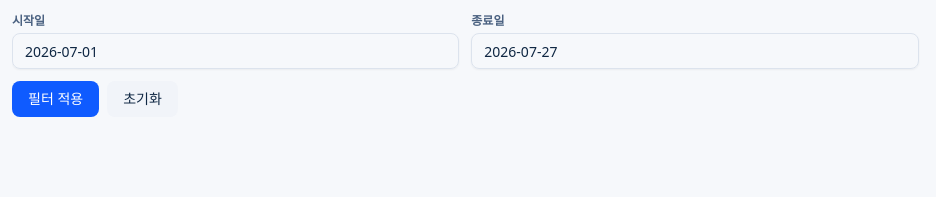
Test: FilterBar / useFilterDraft › wires aria-describedby to the id of the actually-rendered error element (not just a matching string)
The image size is (936, 197).
Clear the field labelled "시작일" at (236, 51), box [12,33,459,69]
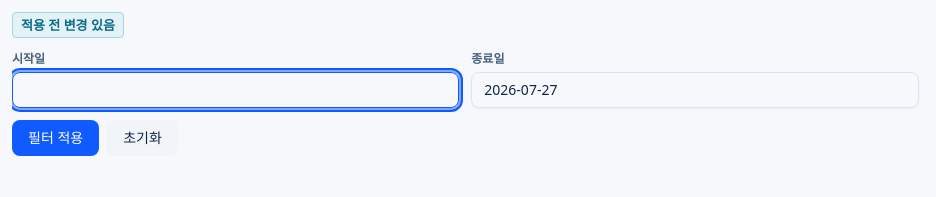
Type "2026-07-30" into the field labelled "시작일".
click(236, 90); type("2026-07-30")  # box [12,72,459,108]
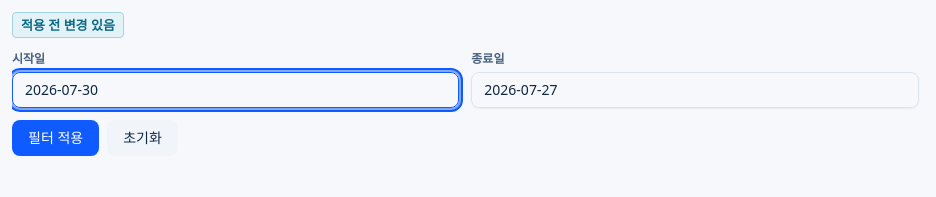
Click the button "필터 적용".
click(56, 138)  # box [12,120,99,156]
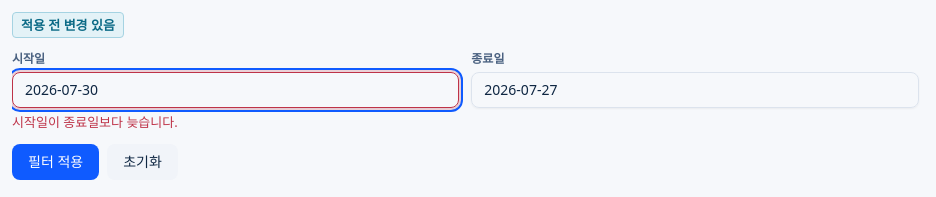
Expected: the message with id "from-error" reads "시작일이 종료일보다 늦습니다.", [12,112,178,130]
